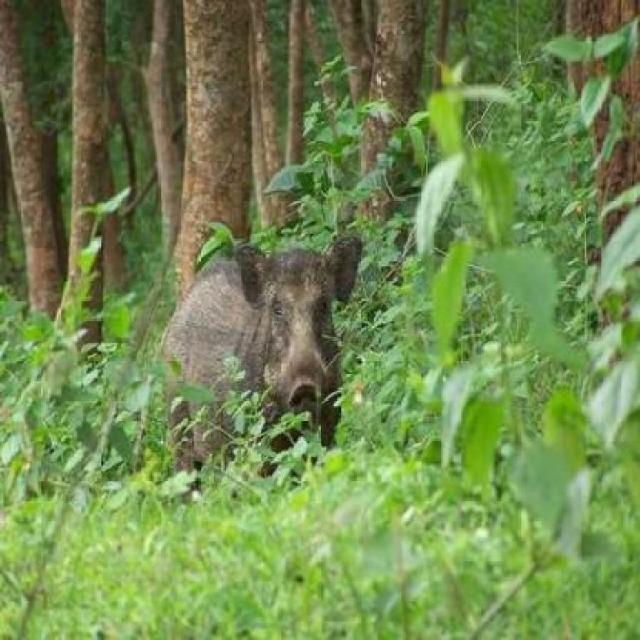pig: (153, 192, 370, 491)
